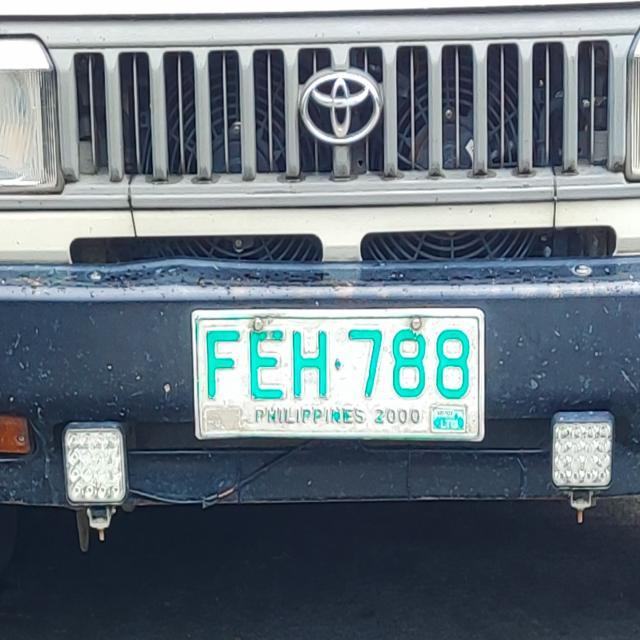LicensePlate: (183, 300, 500, 454)
